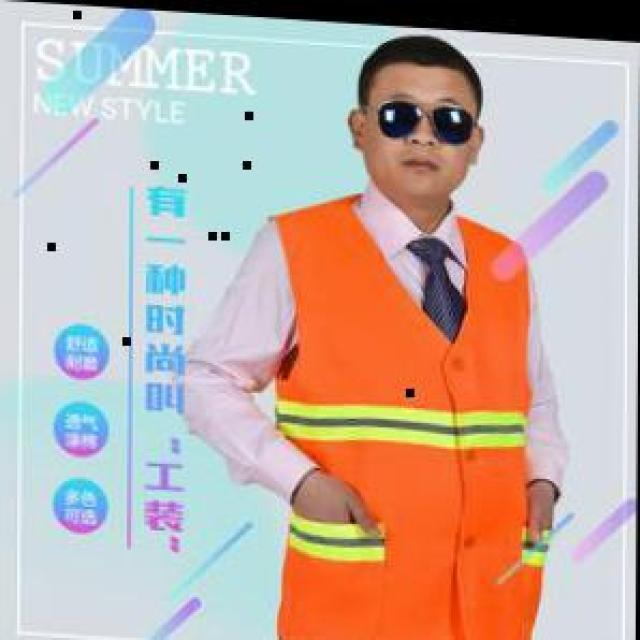safety_helmet: (278, 205, 543, 638)
